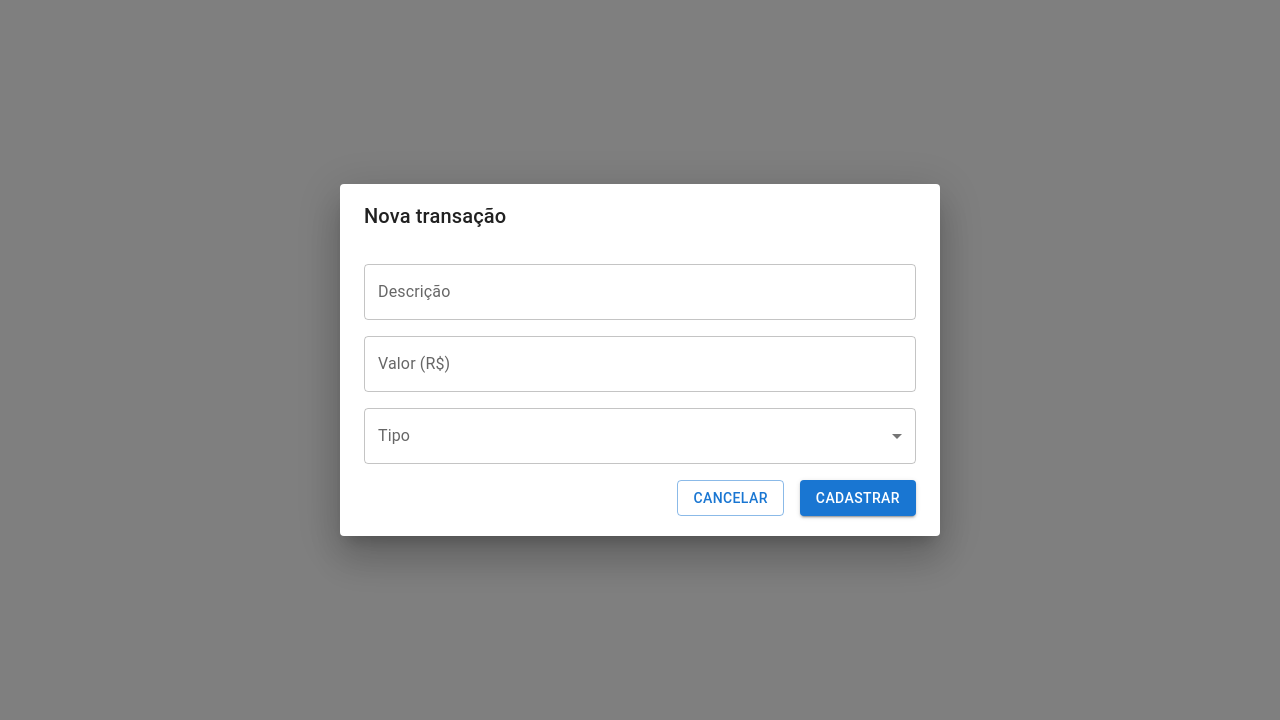
Test case: TransactionDialog › mantém modal aberto e mostra erro quando criação falha
The width and height of the screenshot is (1280, 720).
Type "Mercado" into the field labelled "Descrição" at x=640, y=292, box [364, 264, 916, 320]
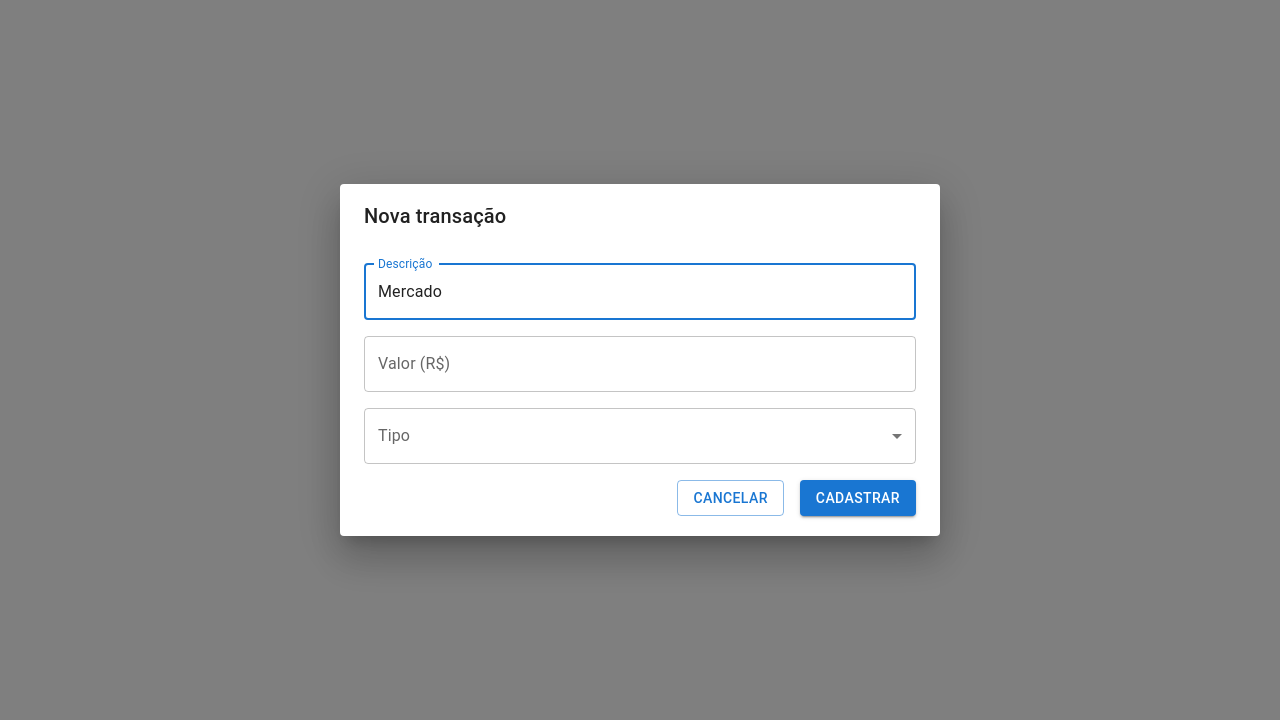
Type "100" into the field labelled "Valor (R$)" at x=640, y=364, box [364, 336, 916, 392]
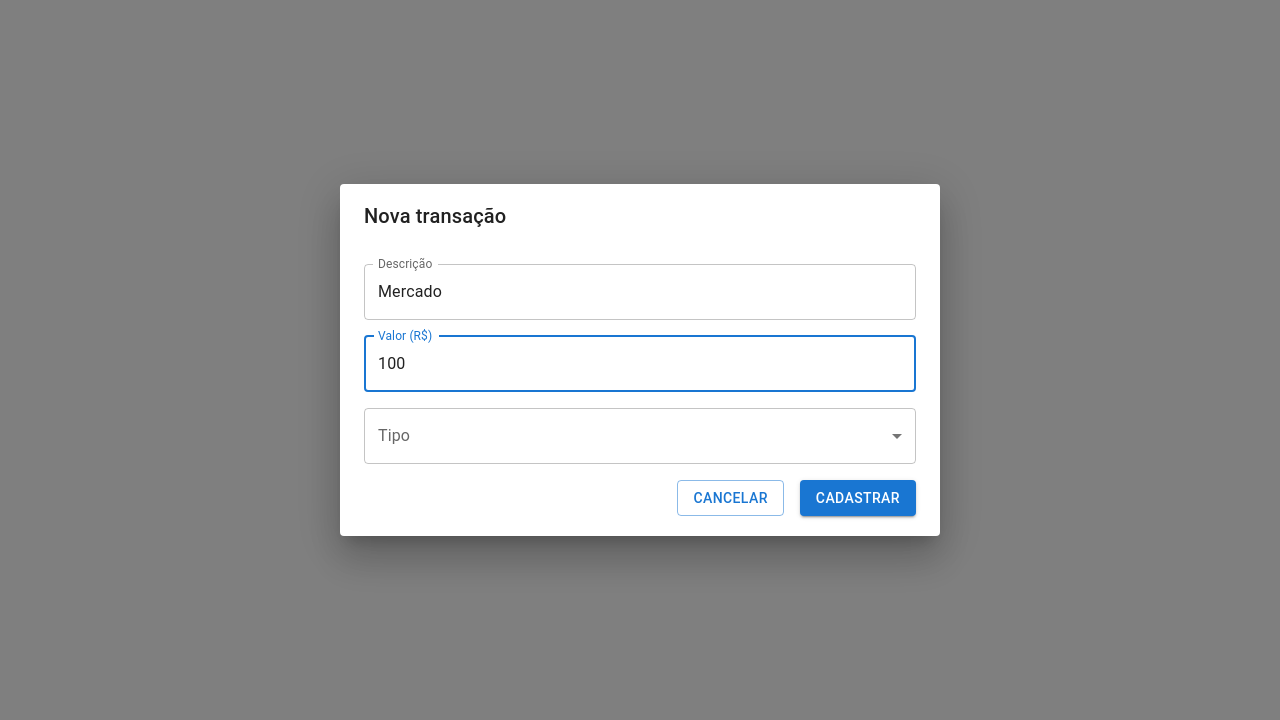
Click the button "Cadastrar" at x=858, y=498, box [800, 480, 916, 516]
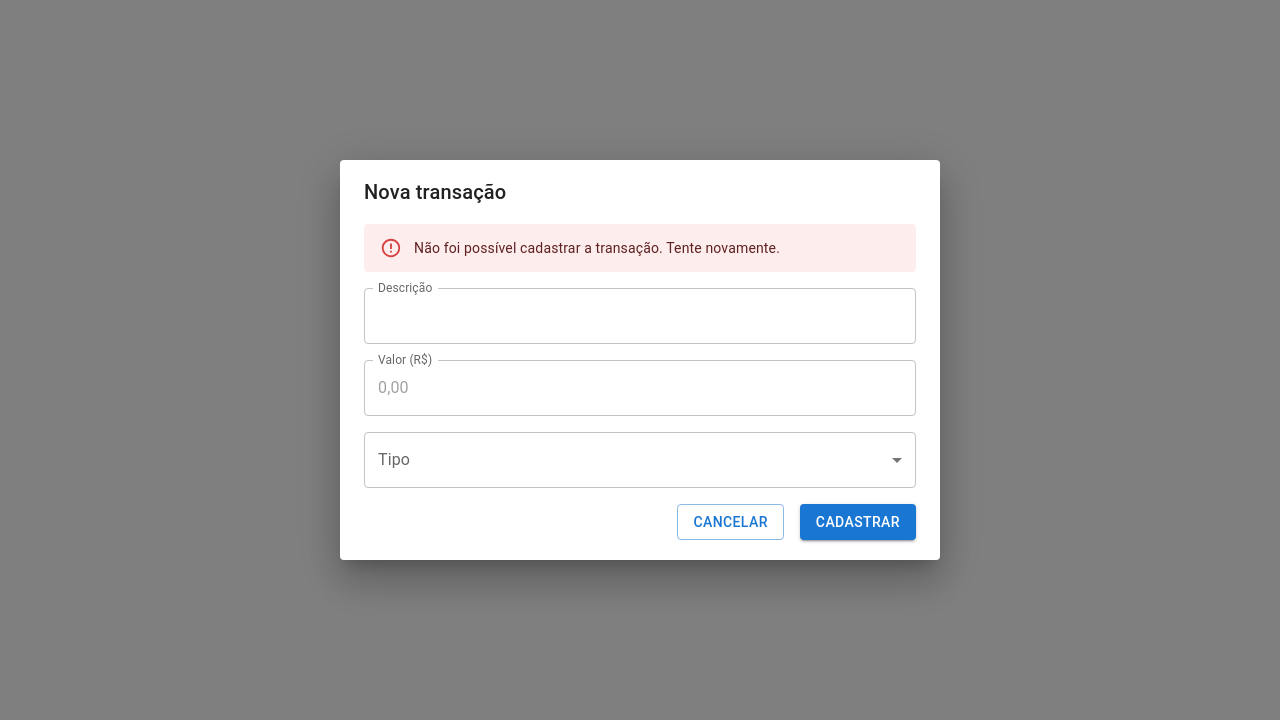
Now the text "Não foi possível cadastrar a transação. Tente novamente." is shown, box [414, 240, 780, 256]
